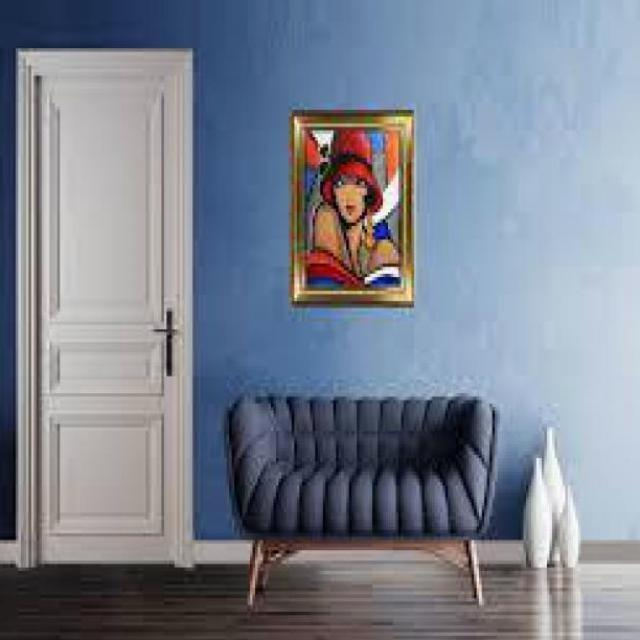door: (18, 47, 193, 568)
